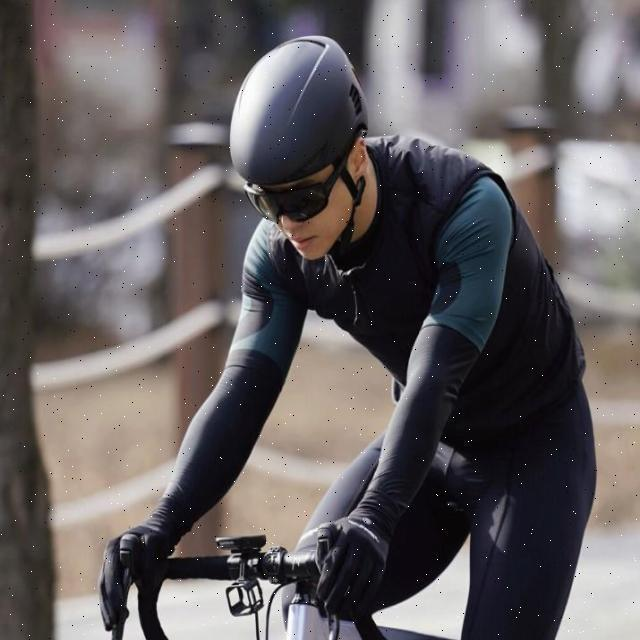helmet: (228, 36, 372, 266)
